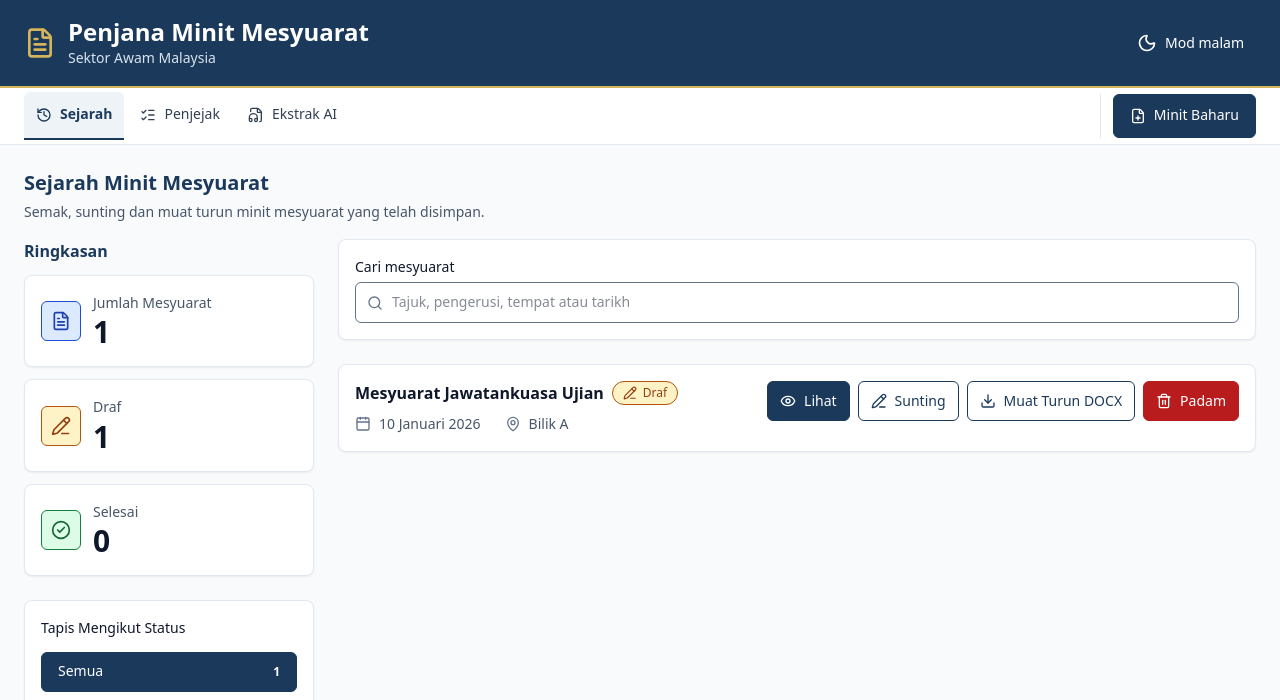
Test: App delete flow › Batal closes the dialog without sending a request
Click the button "Padam": (1191, 401) top-left (1143, 381), bottom-right (1239, 421)
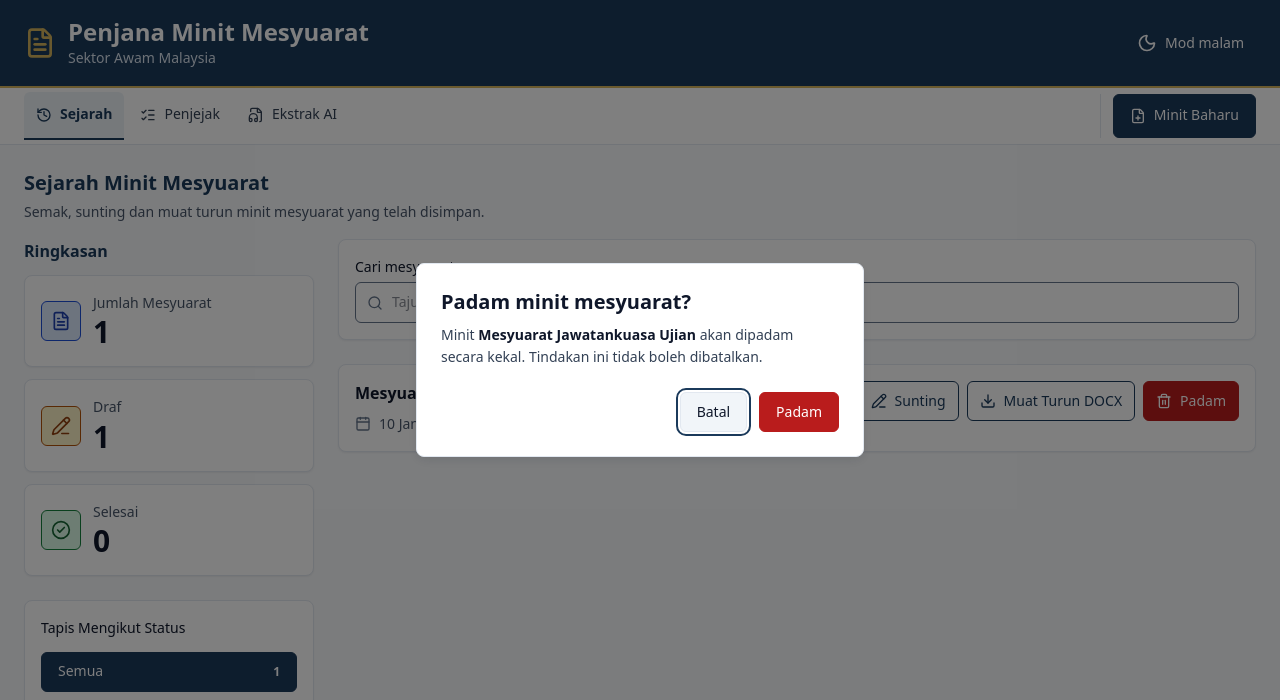
Click the button "Batal": (713, 412) top-left (680, 392), bottom-right (747, 432)
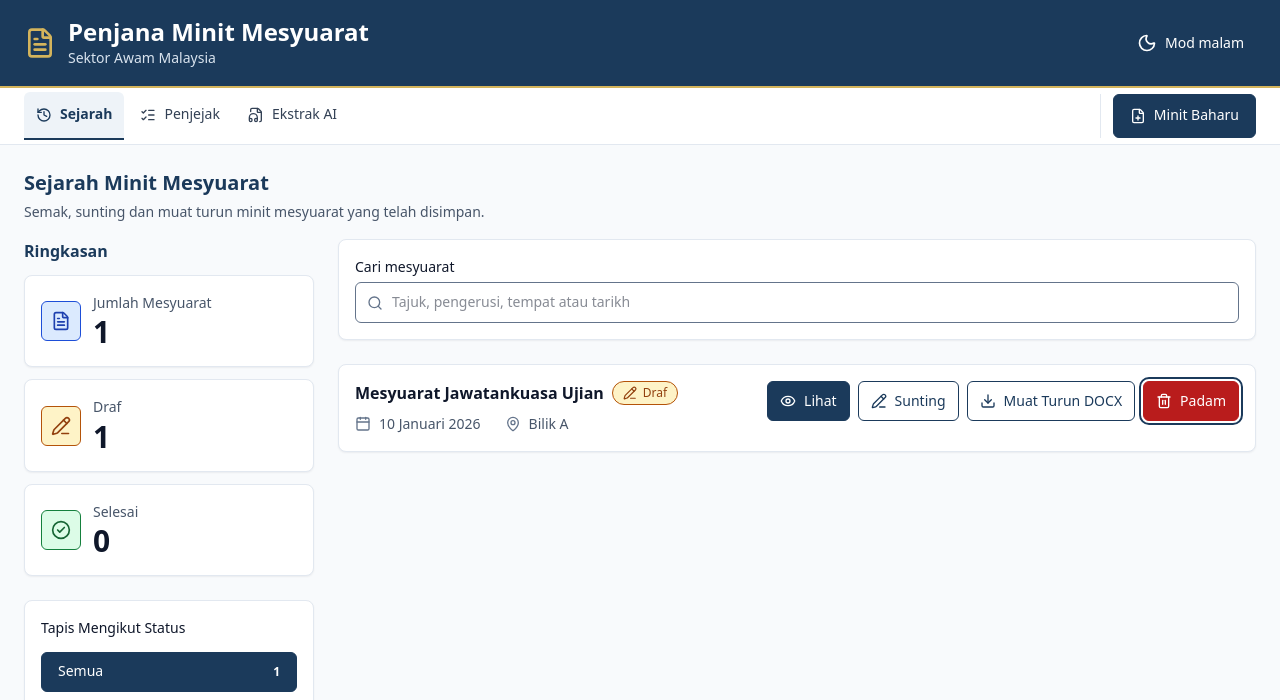
Check: the heading "Mesyuarat Jawatankuasa Ujian" is shown, box top-left (355, 381), bottom-right (604, 405)
Check: the dialog is gone
